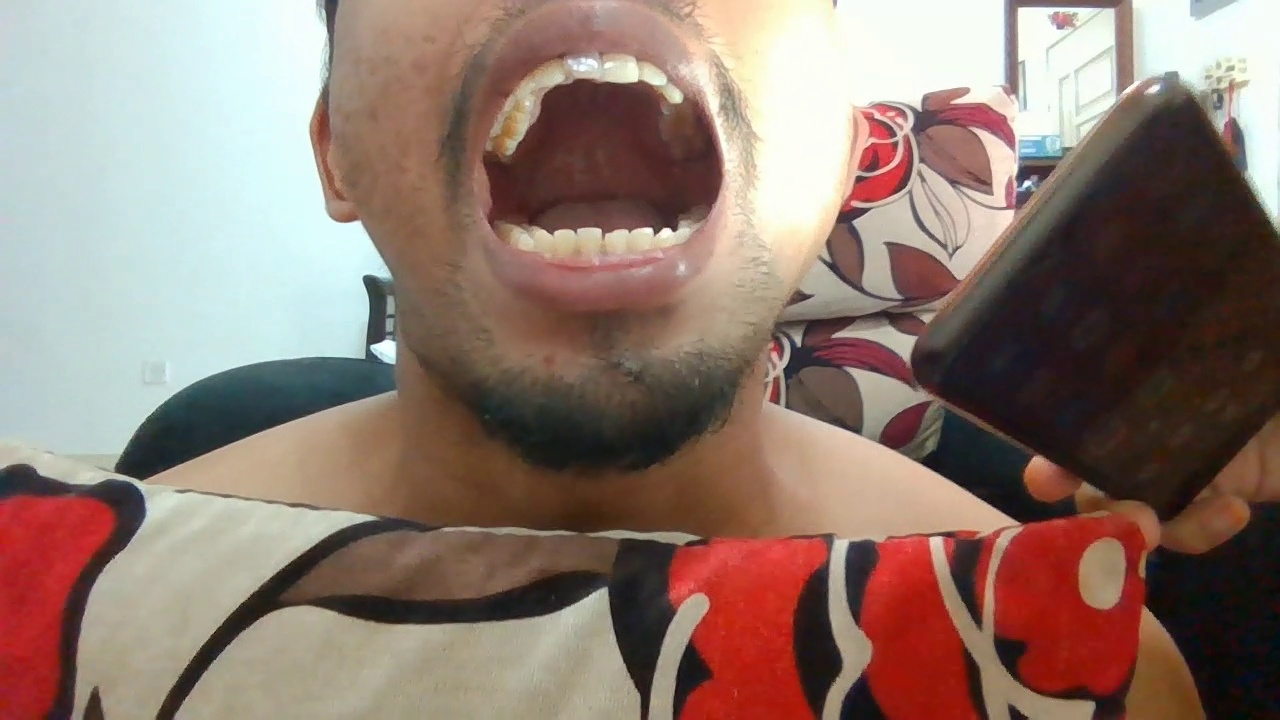1st Molar: (491, 114, 526, 141), (659, 115, 703, 135)
1st Premolar: (516, 230, 533, 249), (675, 223, 690, 243)
2nd Molar: (668, 135, 709, 158), (485, 135, 518, 156)
Canine: (513, 72, 538, 114), (660, 80, 687, 106), (533, 228, 555, 254), (656, 228, 674, 250)
Central Incisor: (602, 52, 640, 84), (564, 53, 602, 80), (577, 227, 604, 259), (604, 228, 631, 258)
Lateral Incisor: (533, 58, 563, 87), (641, 59, 668, 86), (631, 225, 655, 255), (555, 225, 576, 259)
